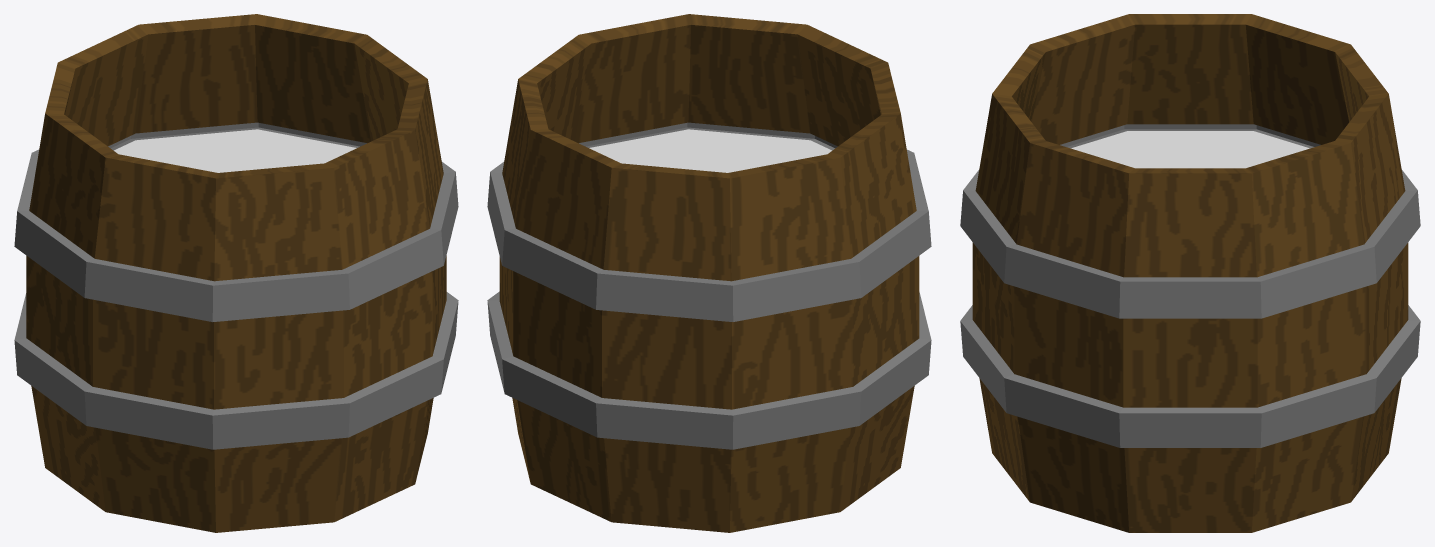
File: barrel_milk.fbx
The picture shows the model from 3 angles, left to right: view 1: azimuth 30°, elevation 25°; view 2: azimuth 150°, elevation 25°; view 3: azimuth 270°, elevation 25°; orthographic projection.
Parts seen in each view (by area): view 1: barrel_milk; view 2: barrel_milk; view 3: barrel_milk.
Boxes of the visible parts, x1,y1,x2,y2 form: barrel_milk: (14, 14, 458, 532); barrel_milk: (487, 14, 931, 532); barrel_milk: (960, 14, 1420, 532).
Bounding box in the file's own units: 161 × 146 × 169.
